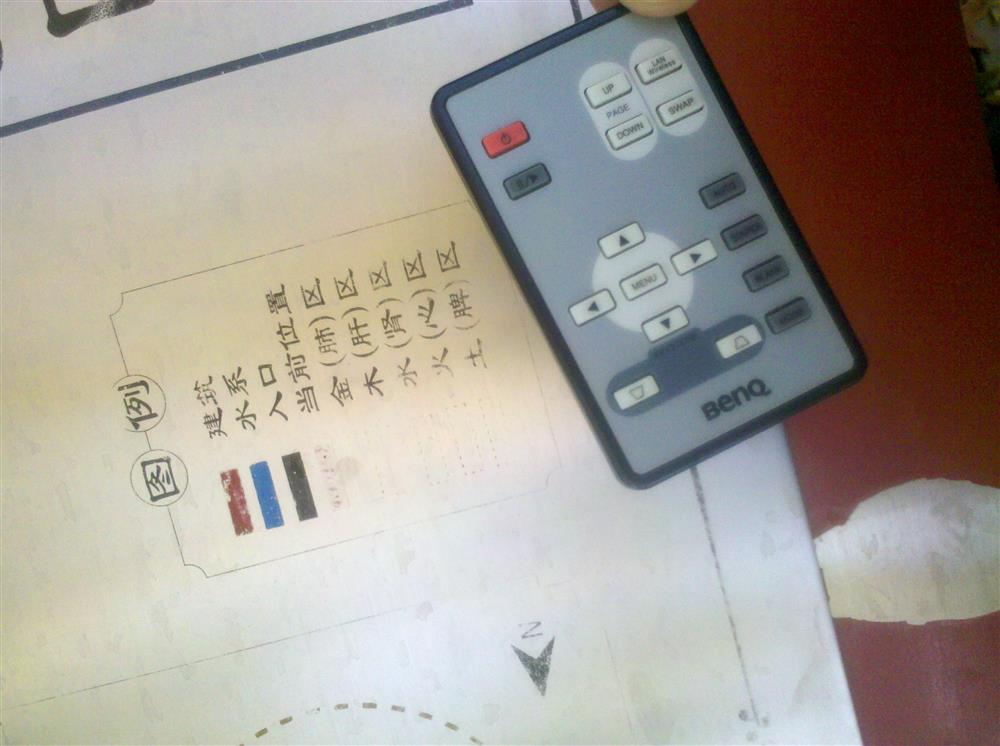BenQ_remote: (431, 8, 859, 489)
